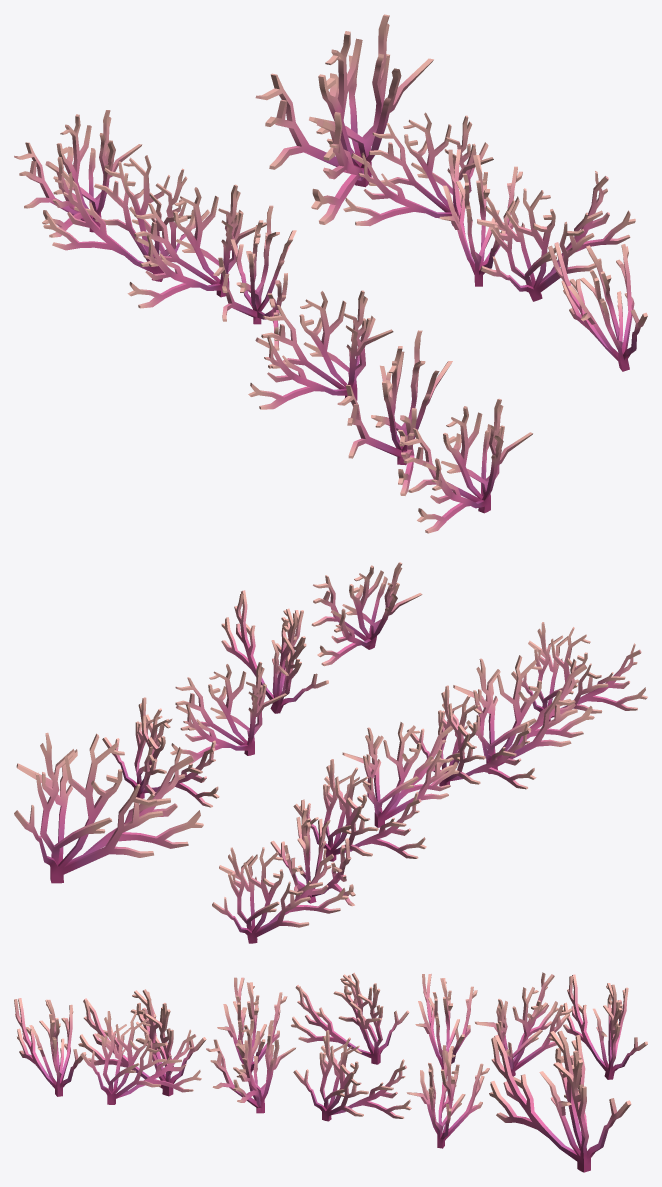
File: stageObject_4.fbx
3 views of the same model, one above another, from view 1: azimuth 30°, elevation 25°; view 2: azimuth 150°, elevation 25°; view 3: azimuth 270°, elevation 25° (orthographic). The views are drawn at different scales.
Visible parts, largest first — view 1: sango1_4; view 2: sango1_4; view 3: sango1_4.
Part boxes in pixels (bbox=[...]): sango1_4: bbox=[14, 14, 647, 533]; sango1_4: bbox=[14, 562, 647, 943]; sango1_4: bbox=[14, 972, 647, 1172].
Bounding box in the file's own units: 153 × 69.81 × 280.
1 material, 1 textured.
